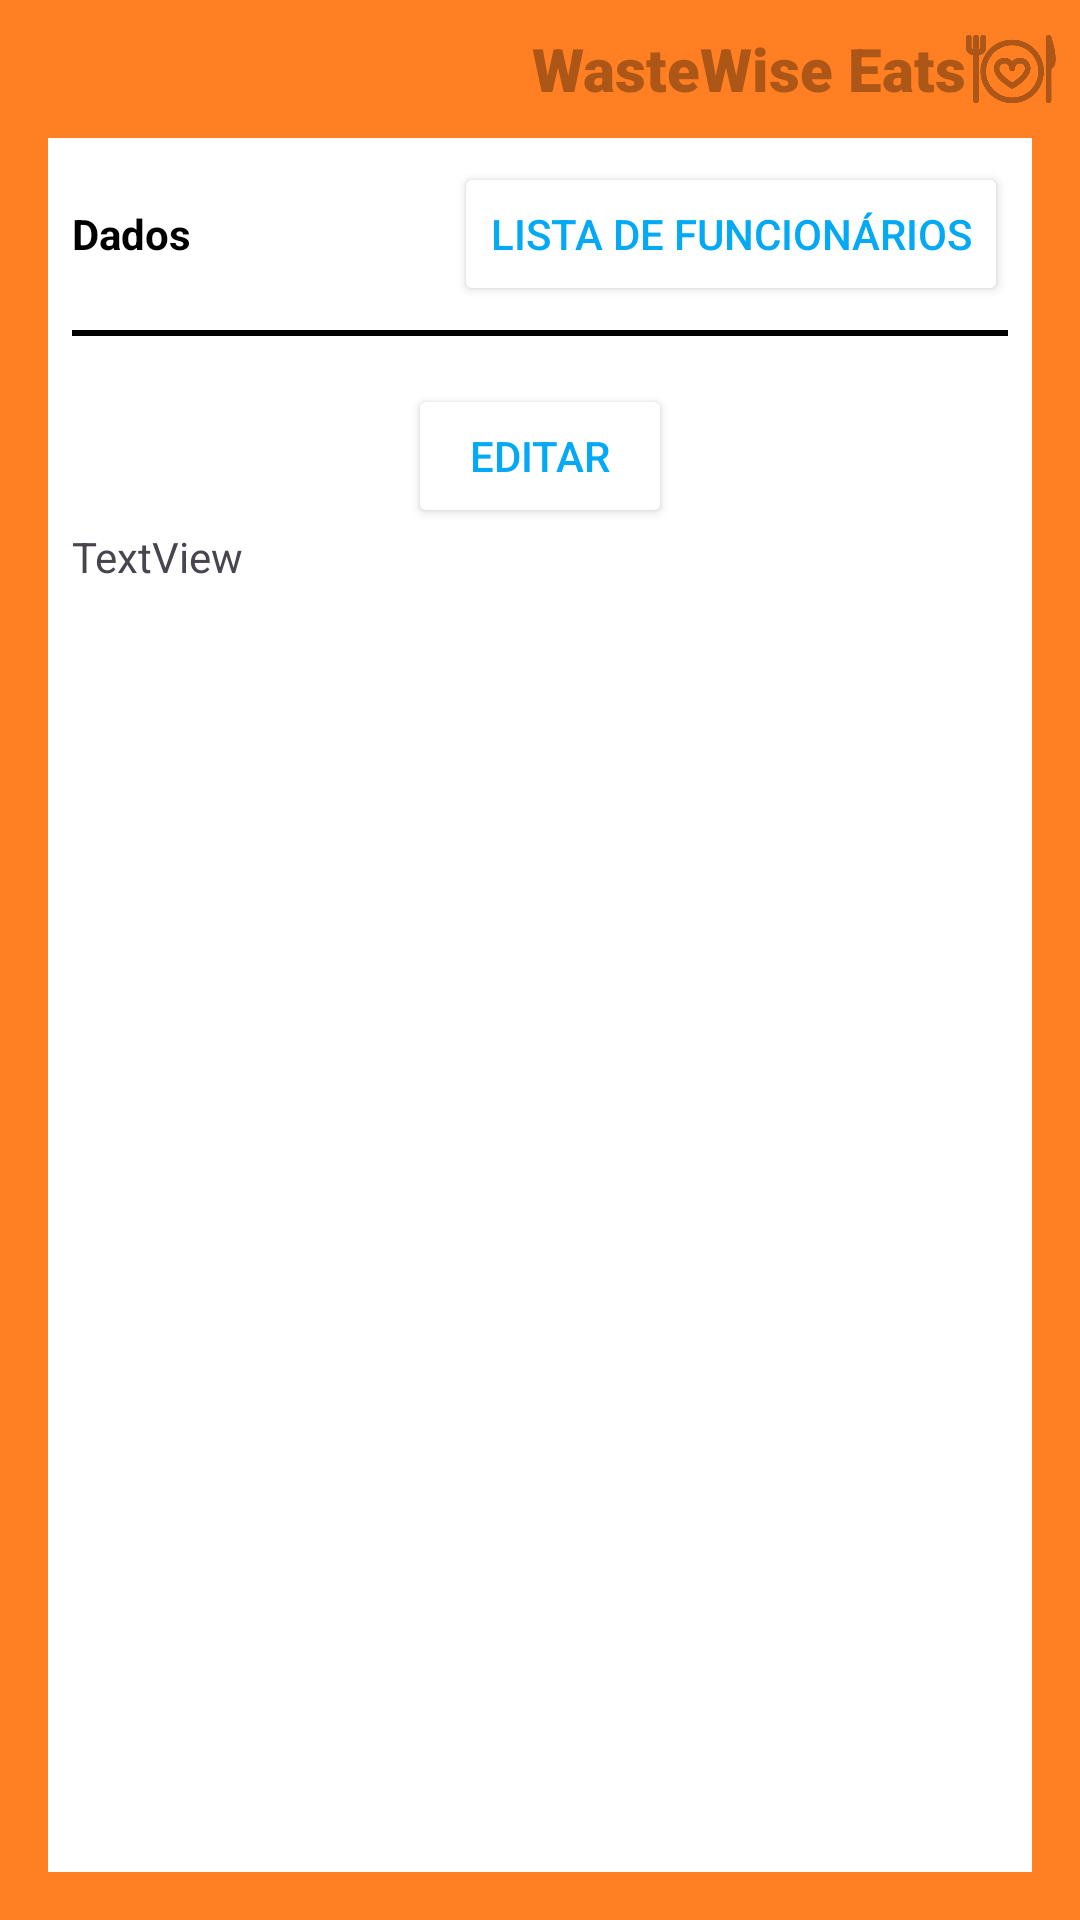

Named icons in this screenshot (1080 × 1920) and their centers, point (x, y):
prato: point (1011, 69)
